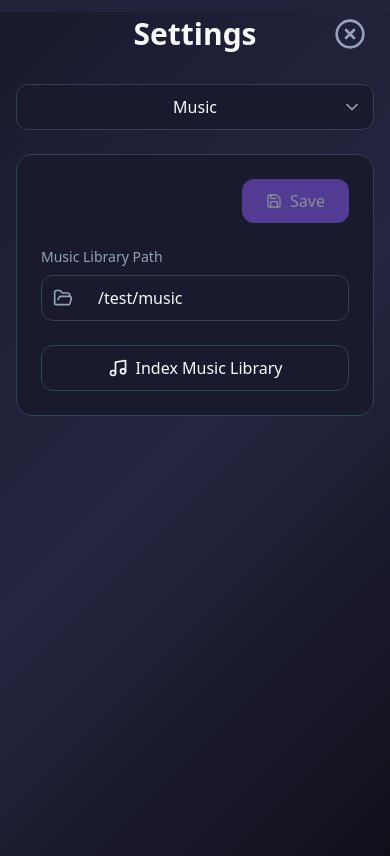
Test: ConfigScreen › switches to Profiles tab when dropdown is changed
The image size is (390, 856).
Select "Profiles" in the dropdown named "Select settings tab": (195, 107) [16,84,374,130]
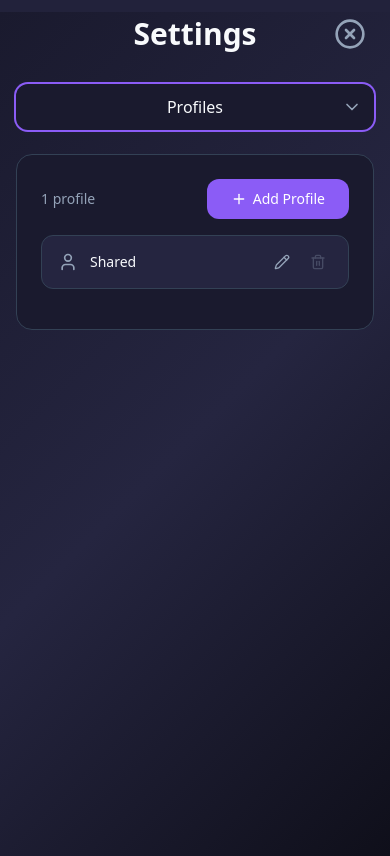
Expected: the button "Add Profile" is shown, [207,179,349,219]
